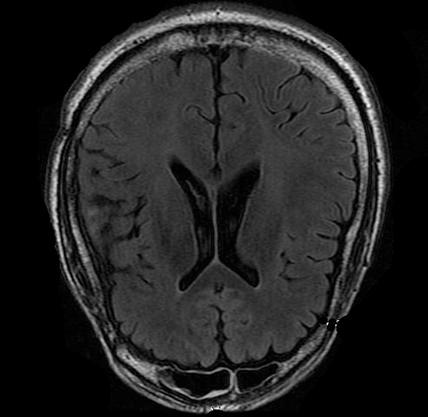Normal_Brain: (17, 1, 428, 417)
